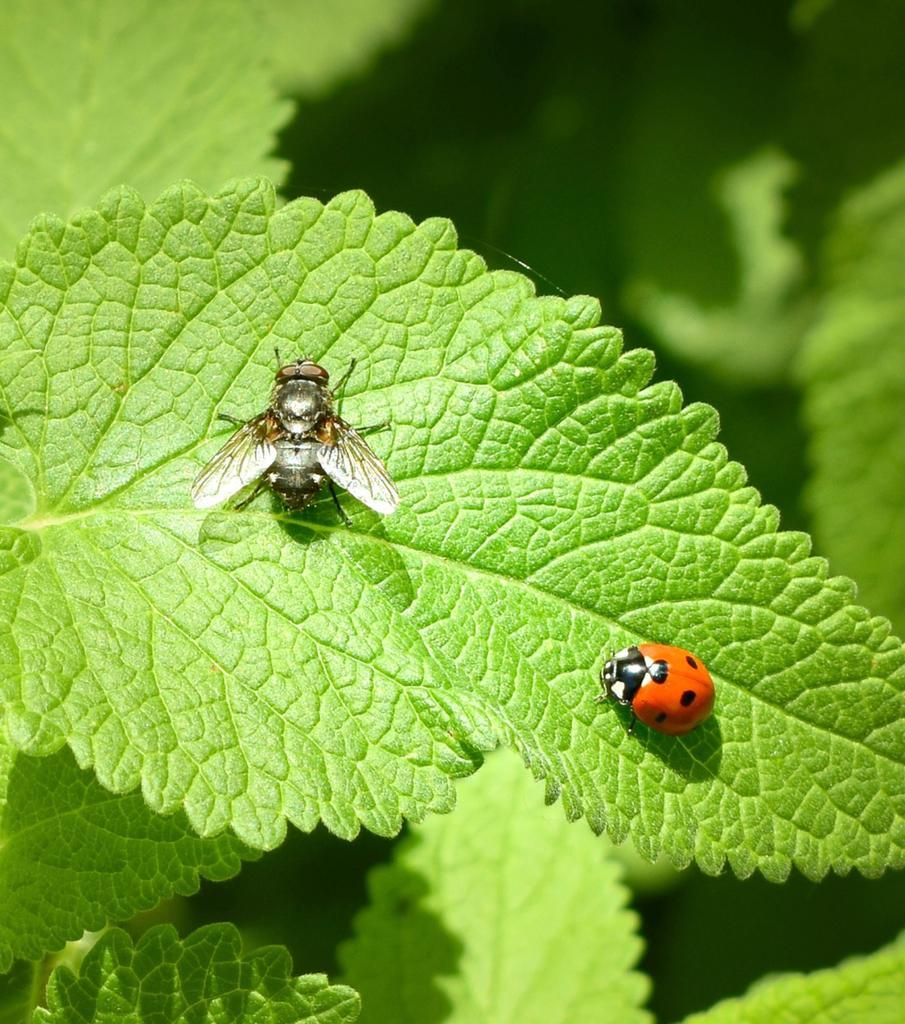ladybug: (599, 641, 724, 741)
